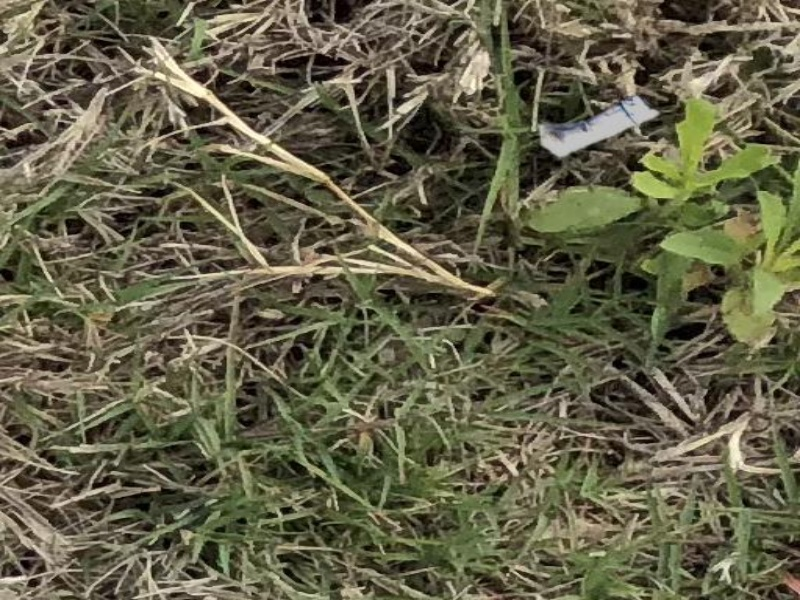cig: (538, 88, 658, 164)
